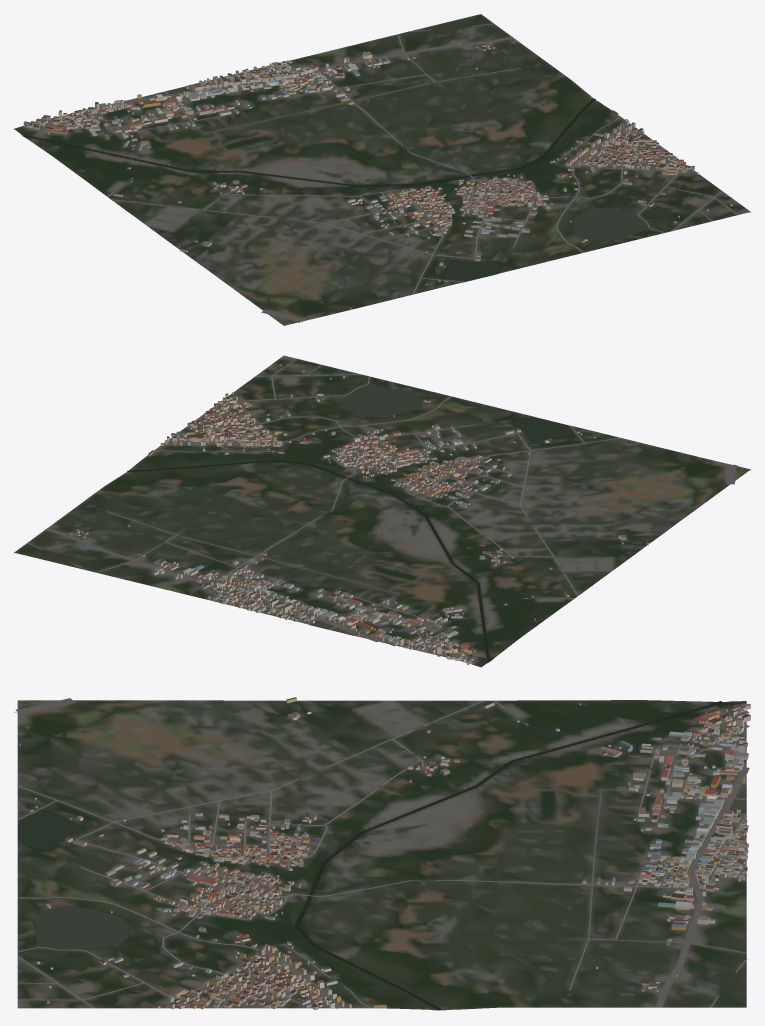
The picture shows the model from 3 angles, top to bottom: view 1: azimuth 30°, elevation 25°; view 2: azimuth 150°, elevation 25°; view 3: azimuth 270°, elevation 25°; orthographic projection. The views are drawn at different scales.
Parts seen in each view (by area): view 1: ground, buildings, roads, water; view 2: ground, buildings, roads, water; view 3: ground, buildings, roads, water.
Boxes of the visible parts, bbox=[...] form: ground: bbox=[14, 14, 750, 325]; buildings: bbox=[23, 42, 732, 309]; roads: bbox=[38, 23, 738, 322]; water: bbox=[23, 87, 648, 280]; ground: bbox=[14, 355, 750, 667]; buildings: bbox=[70, 364, 683, 664]; roads: bbox=[27, 358, 737, 656]; water: bbox=[127, 384, 573, 661]; ground: bbox=[17, 700, 746, 1010]; buildings: bbox=[19, 697, 750, 1009]; roads: bbox=[14, 698, 749, 1008]; water: bbox=[18, 701, 745, 1010].
Size of the model in its own units: 1419 by 30 by 1417.
